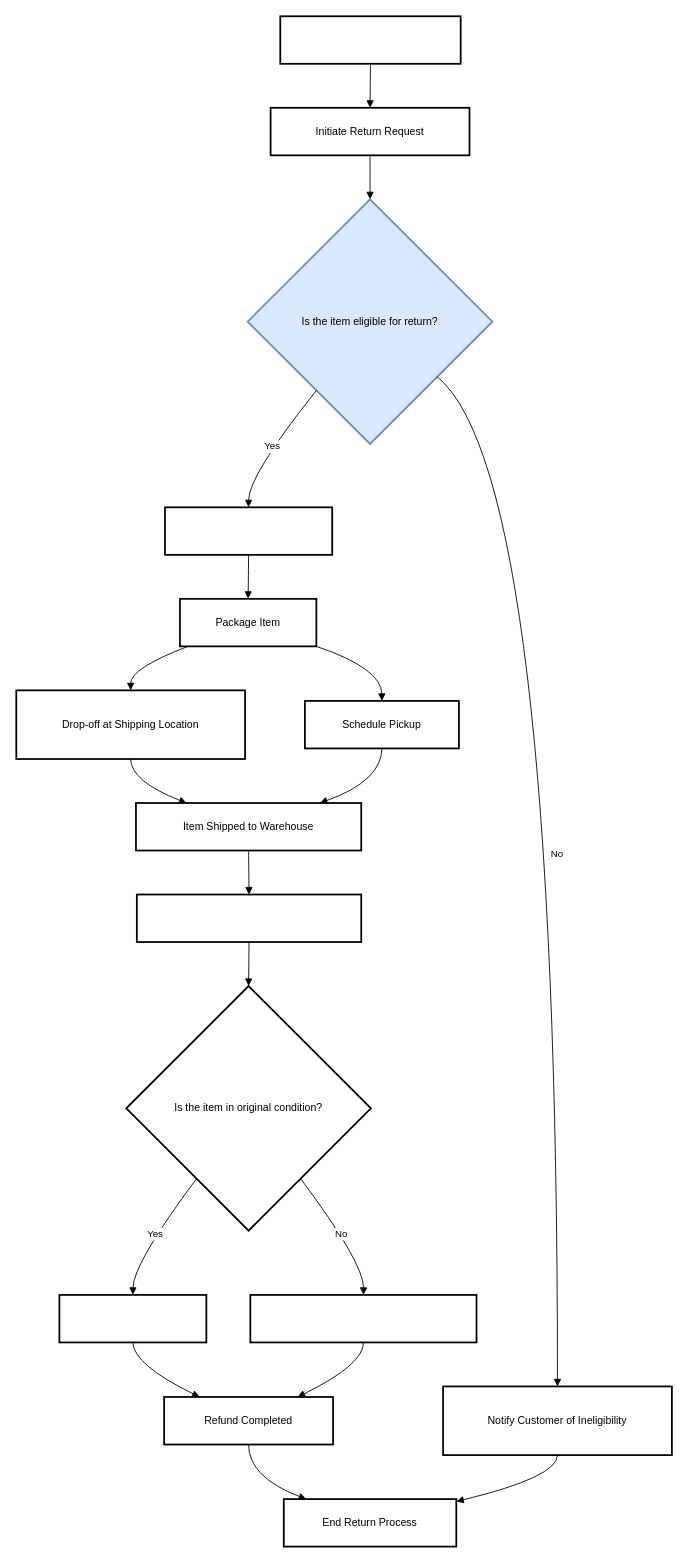
This 687x1562 diagram has some shape labels left out. The centre of each missing label's shape, as x and y in pixels:
"Notify Customer of Damage" belongs at pixel 363 1318.
"Print Return Label" belongs at pixel 248 530.
"Process Refund" belongs at pixel 132 1318.
"Receive Item at Warehouse" belongs at pixel 249 917.
"Start Return Process" belongs at pixel 370 39.
